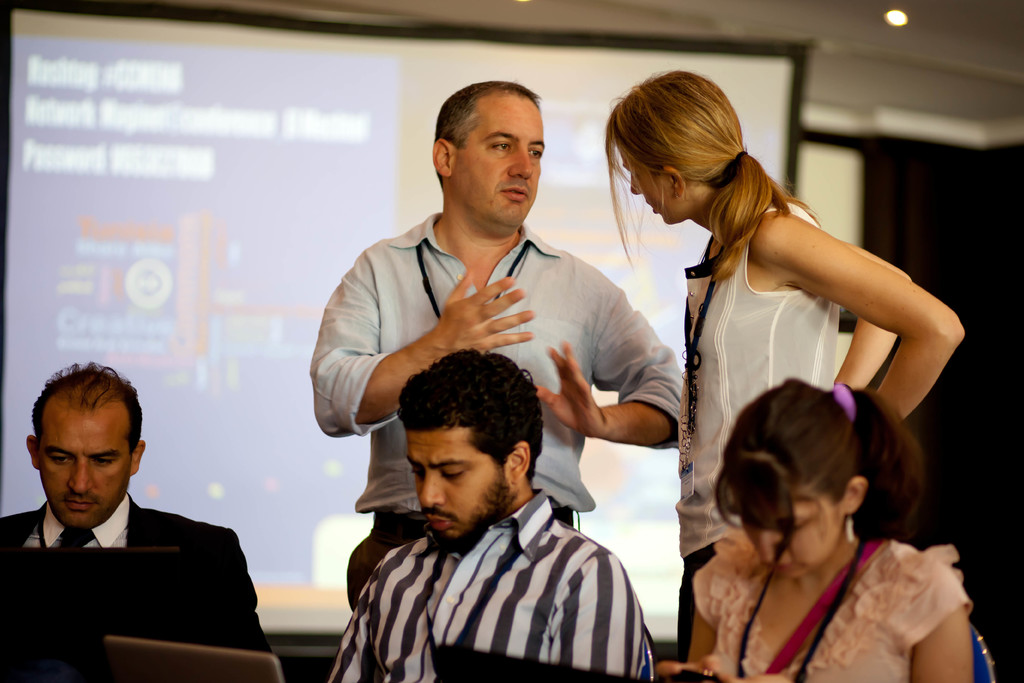Human_hand: (532, 340, 610, 437), (422, 298, 547, 356), (654, 654, 721, 682), (719, 672, 791, 682)
